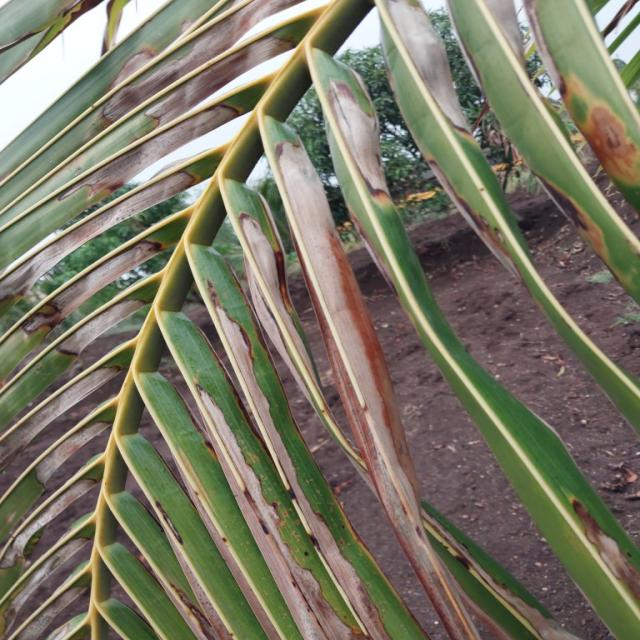gray leaf spot: (21, 13, 516, 633)
